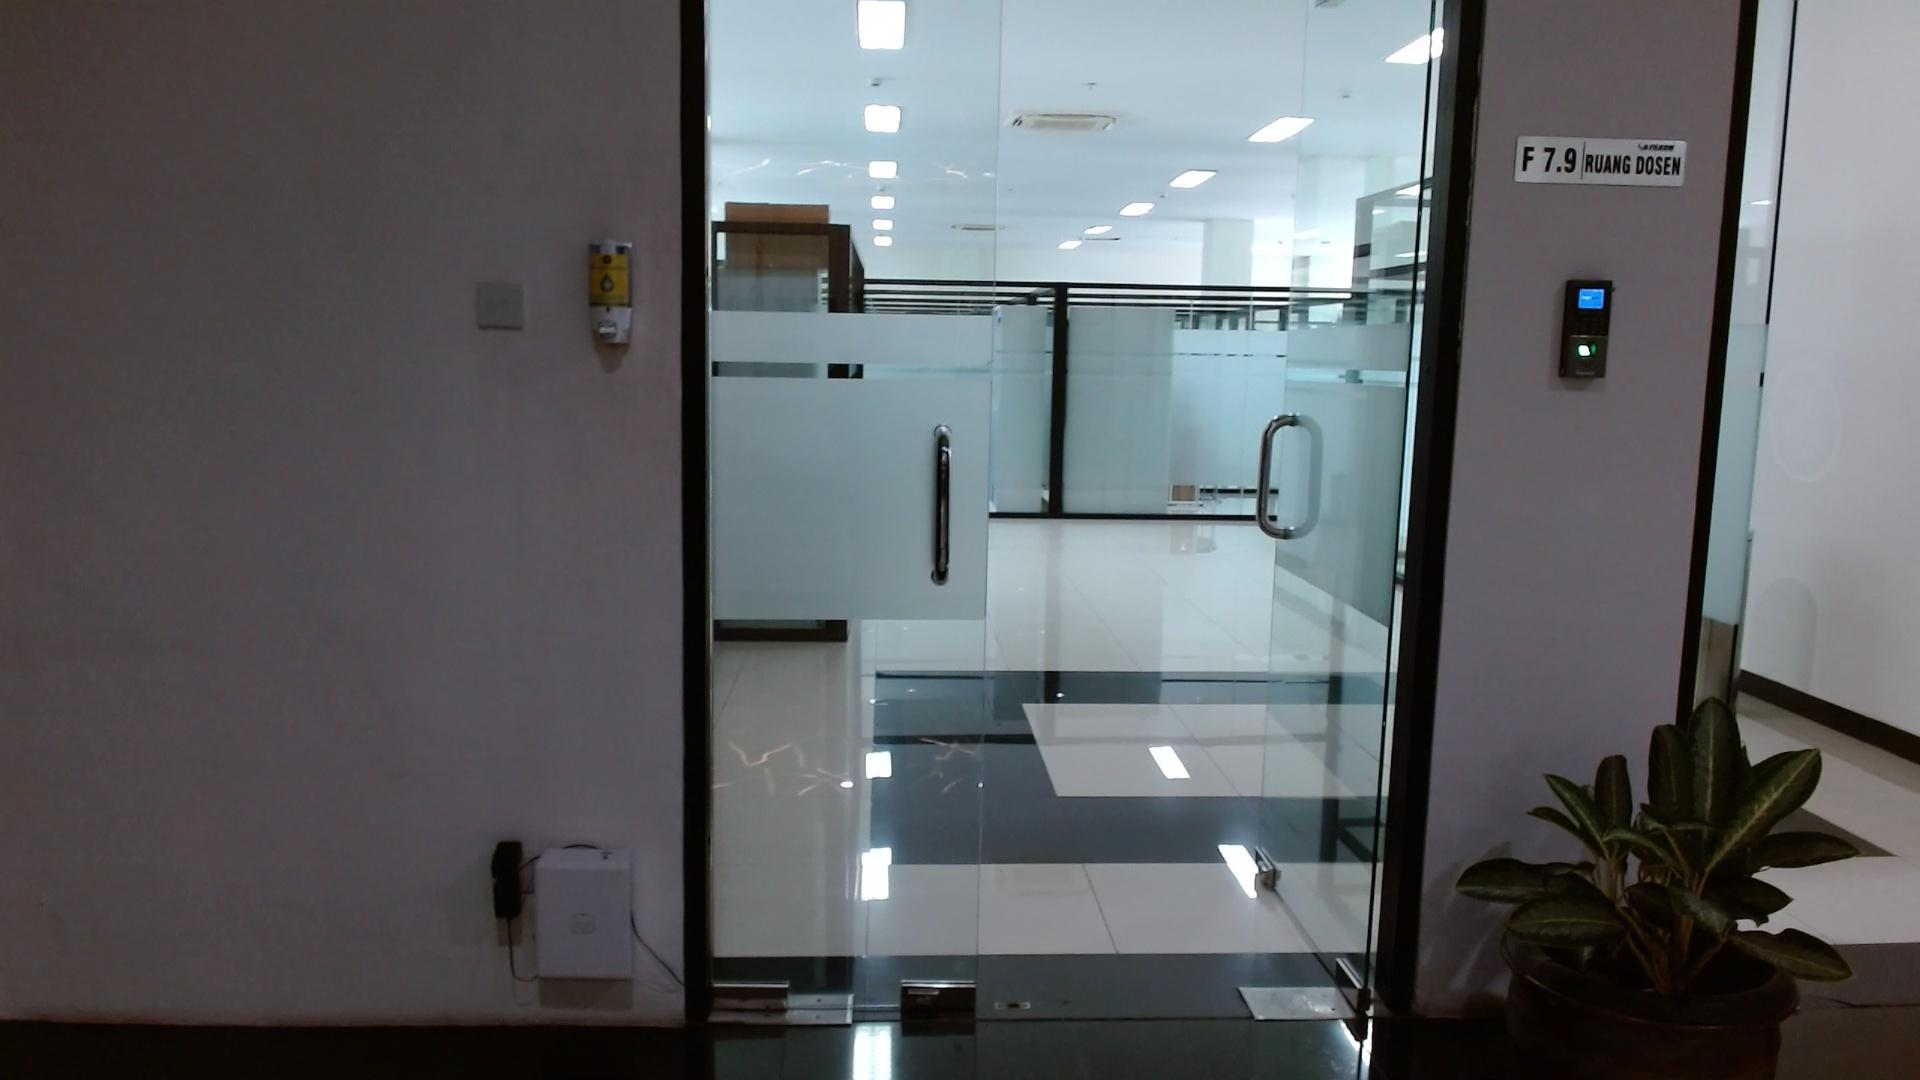plate: (1514, 132, 1688, 189)
